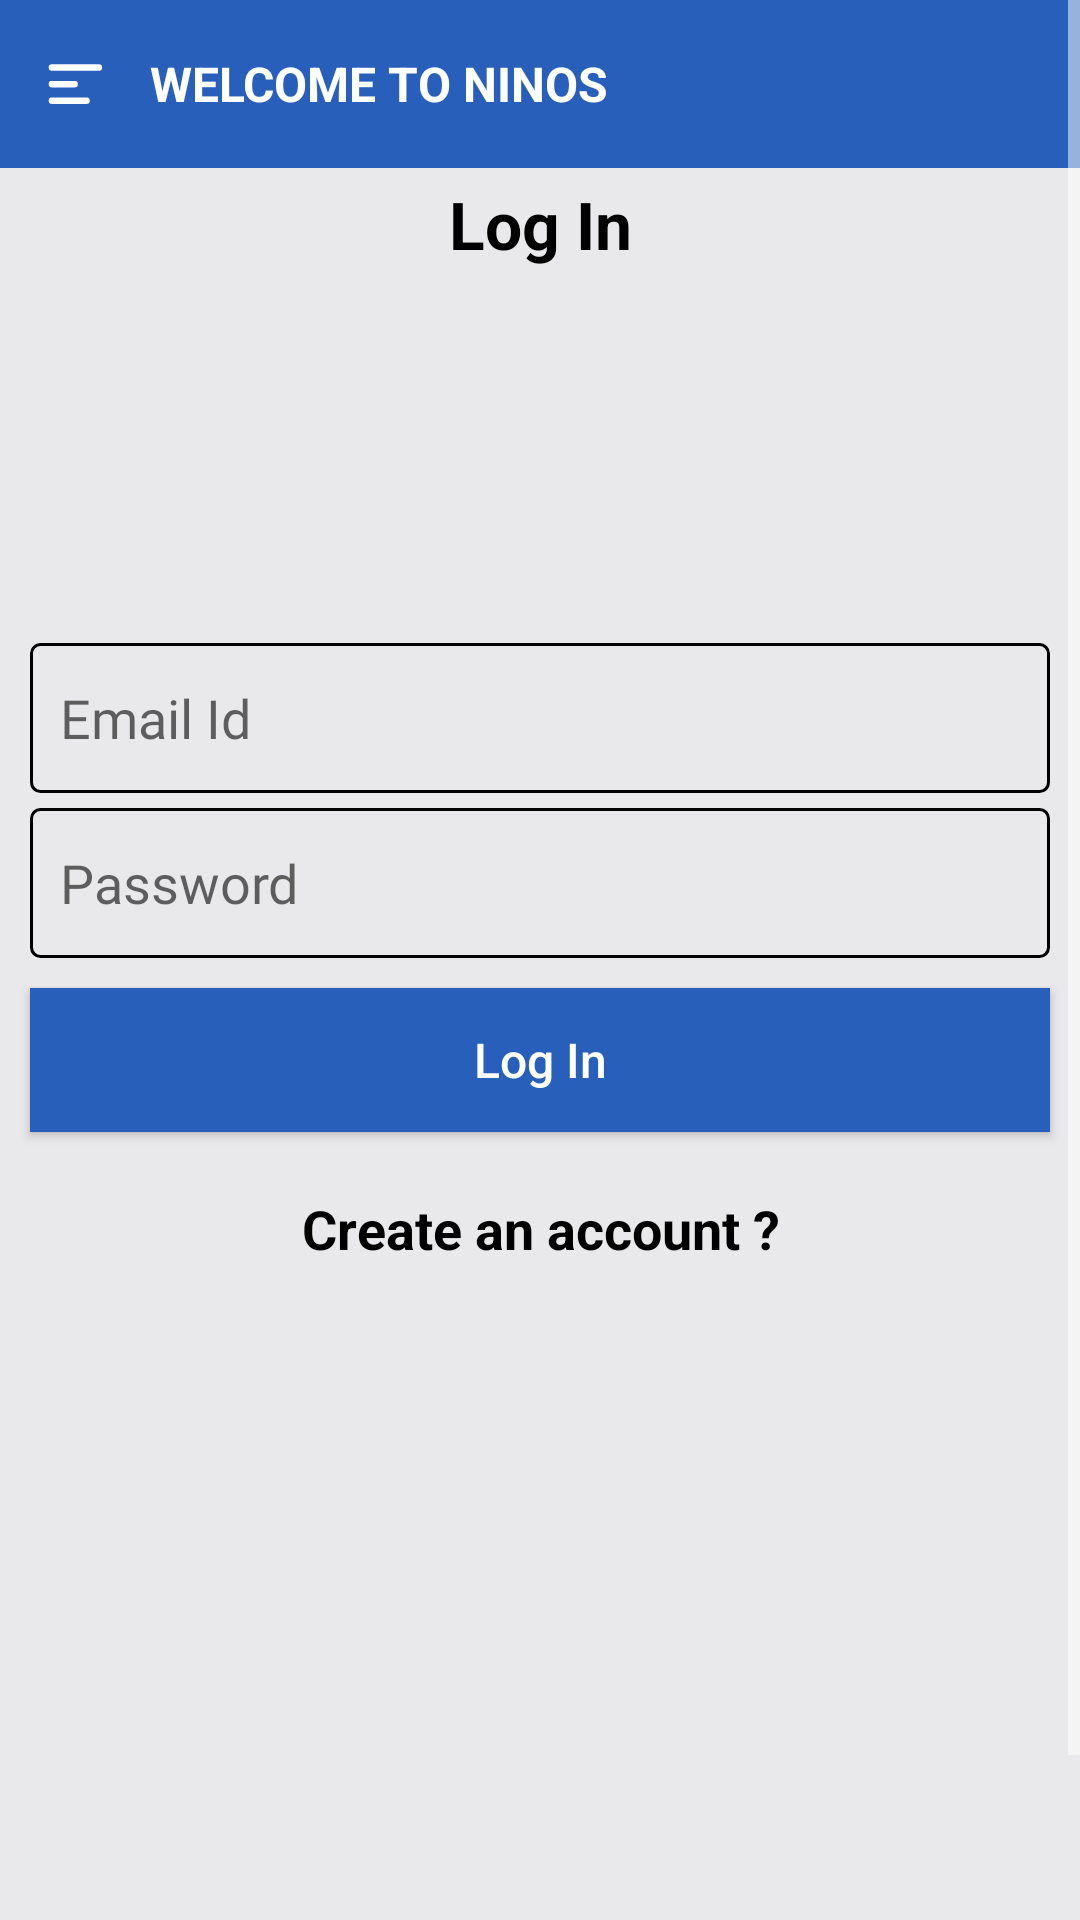

Named icons in this screenshot (1080×1920) and their bounding boxes, (x1, y1, x2, y2):
menu: (48, 64, 102, 104)
